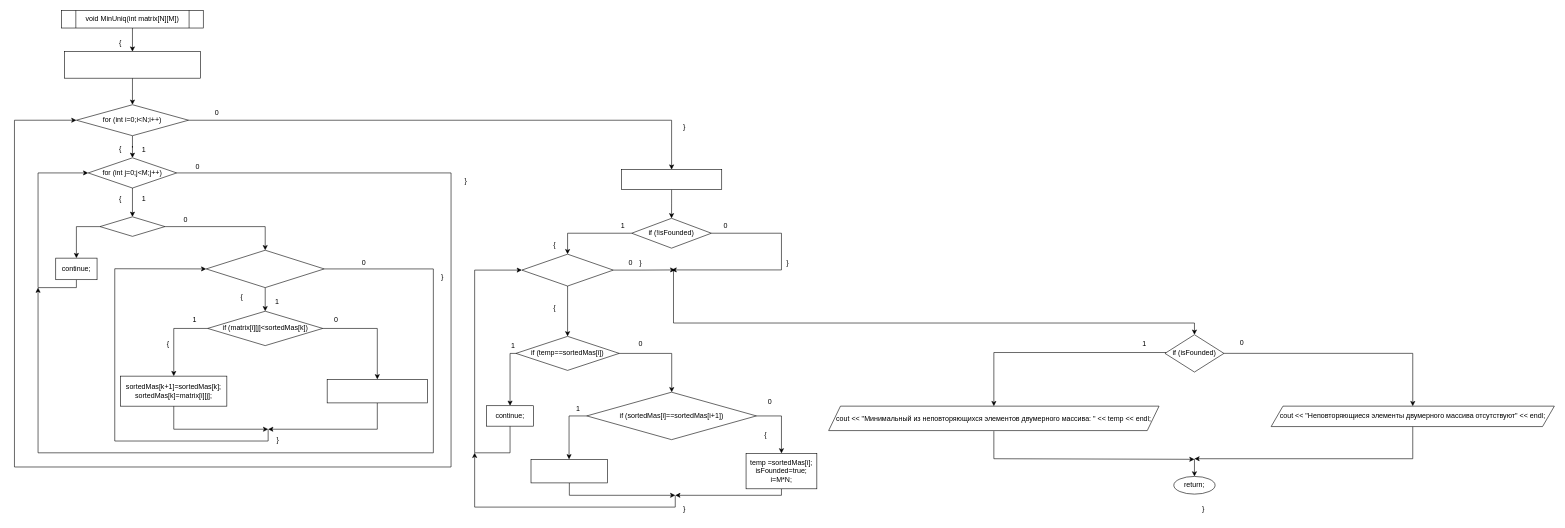
This 1565x528 diagram has some shape labels left out. The box of each missing label's shape, as (x1, y1, x2, y2) in pixels:
bool isFounded=false; int temp=sortedMas[0];: (621, 169, 722, 190)
for (int i=1; i<N*M;i++): (521, 254, 613, 286)
for (int k=(i*M)+j-1; k>=0;k--): (206, 250, 324, 288)
if (!i&&!j): (99, 216, 165, 236)
int sortedMas[N*M]{}; sortedMas[0]=matrix[0][0];: (64, 51, 200, 78)
sortedMas[k+1]=matrix[i][j]; k=0;: (327, 379, 427, 403)
temp=sortedMas[i];: (530, 459, 608, 483)
